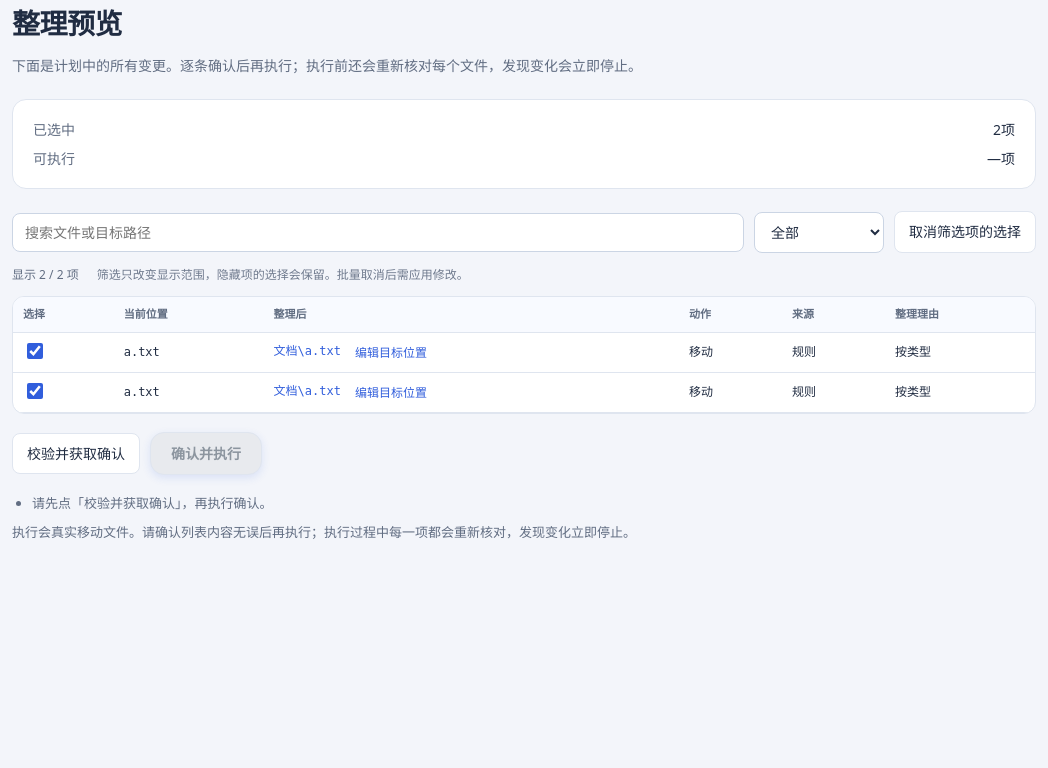
预览页 UI 接线 › 验证通过拿到令牌前，「确认并执行」一直是禁用的
Expected: the button "确认并执行" is disabled, [150, 432, 262, 475]
Click the button "校验并获取确认" at (76, 453), box [12, 432, 140, 474]
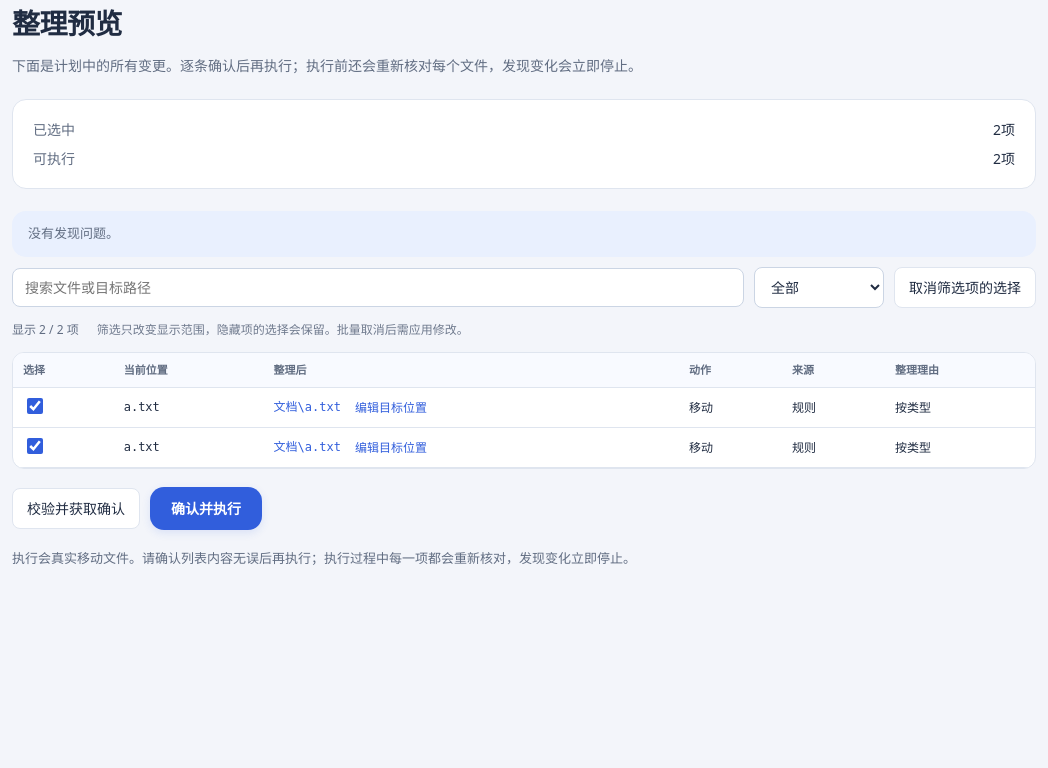
Now the button "确认并执行" is enabled, box [150, 487, 262, 530]
